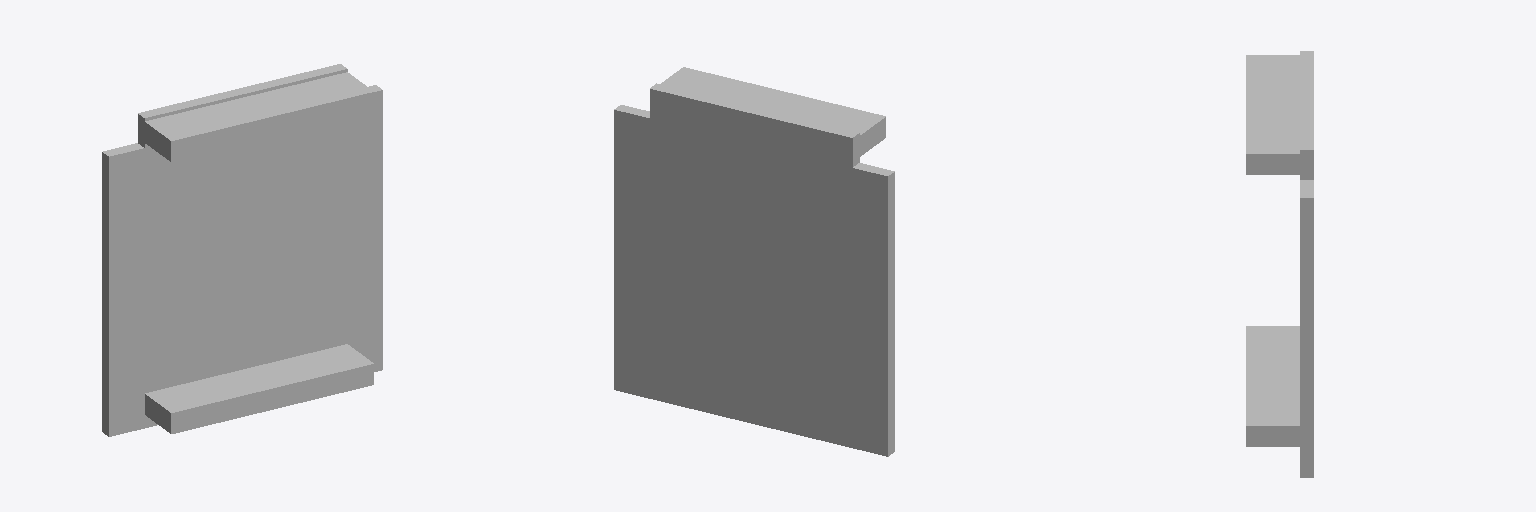
The model's file is sittplanka.obj.
The picture shows the model from 3 angles: view 1: azimuth 30°, elevation 25°; view 2: azimuth 150°, elevation 25°; view 3: azimuth 270°, elevation 25°; orthographic projection.
Size of the model in its own units: 270 by 292 by 58.